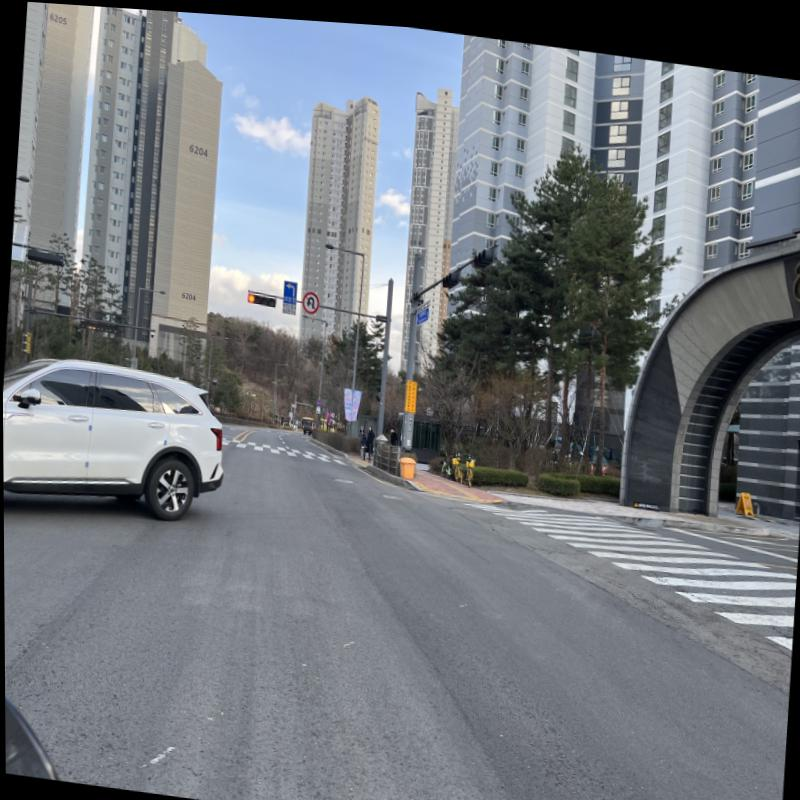red: (247, 290, 254, 298)
